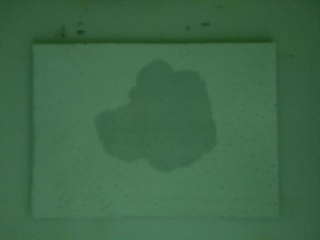Water_detected: (108, 80, 206, 161)
